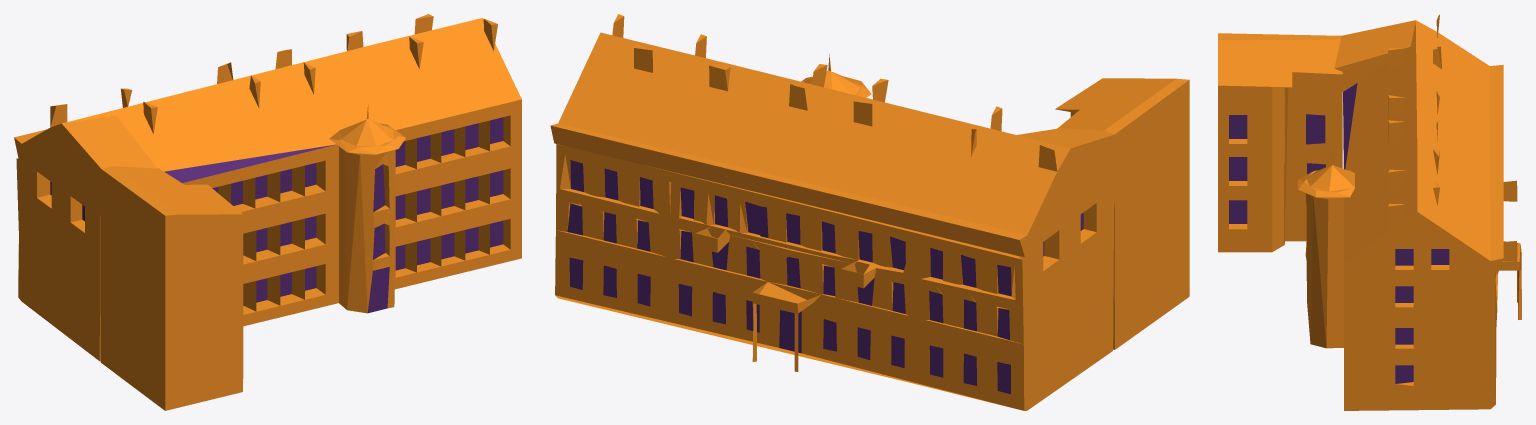
File: Stowarzyszenie KupcówV2.fbx
3 views of the same model, side by side, from view 1: azimuth 30°, elevation 25°; view 2: azimuth 150°, elevation 25°; view 3: azimuth 270°, elevation 25° (orthographic). The views are drawn at different scales.
Visible parts, largest first — view 1: Stowarzyszenie_Kupców_obj_0; view 2: Stowarzyszenie_Kupców_obj_0; view 3: Stowarzyszenie_Kupców_obj_0.
Part boxes in pixels (bbox=[...]): Stowarzyszenie_Kupców_obj_0: bbox=[14, 14, 521, 410]; Stowarzyszenie_Kupców_obj_0: bbox=[550, 14, 1189, 410]; Stowarzyszenie_Kupców_obj_0: bbox=[1218, 14, 1521, 410].
Size of the model in its own units: 36.38 by 17.83 by 24.04.
Materials: 1 (1 with a texture image).
